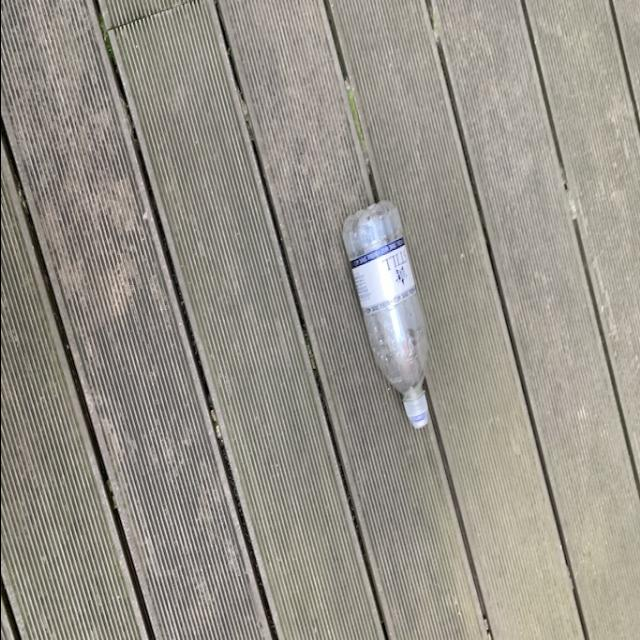PET: (338, 198, 432, 438)
